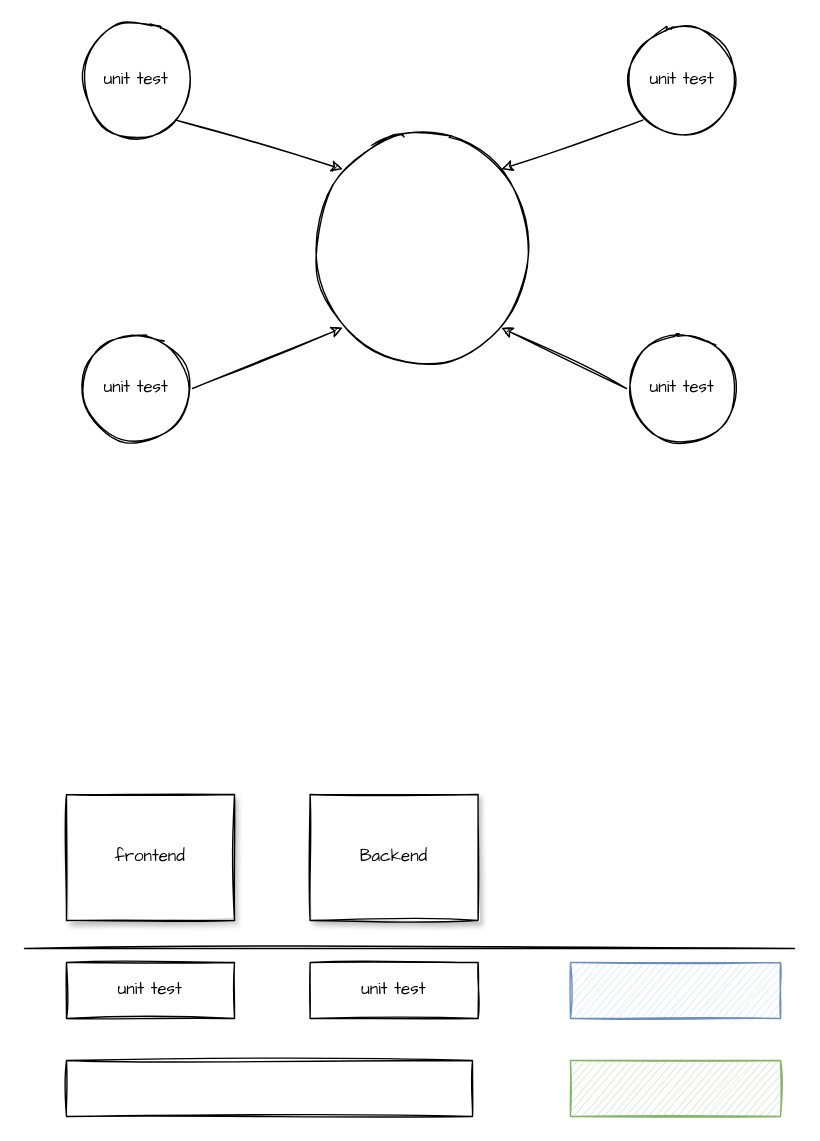
Some shapes in this 820 by 1141 pixel diagram are drawn without their labels. Here are the shapes that lost their labels. From the top down, the centre of each, then its label:
At [421,247]: "Code Coverage 80%".
At [674,989]: "white box testing".
At [268,1087]: "E2E test".
At [674,1087]: "black box testing".
